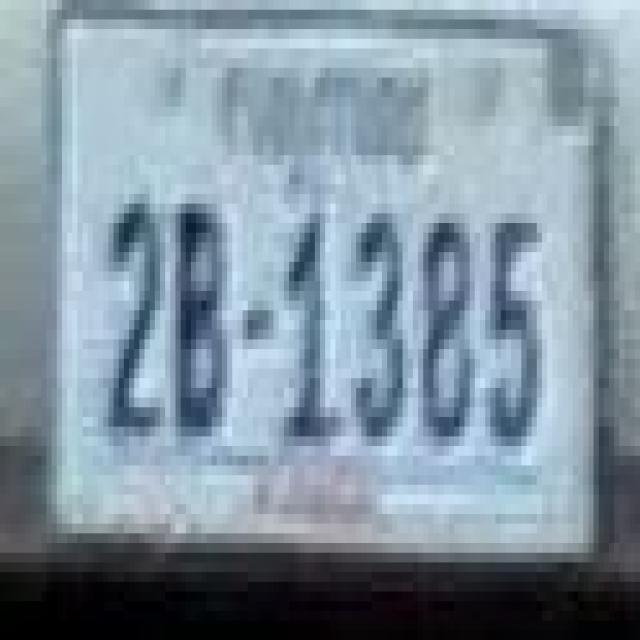Kandal: (217, 59, 433, 200)
